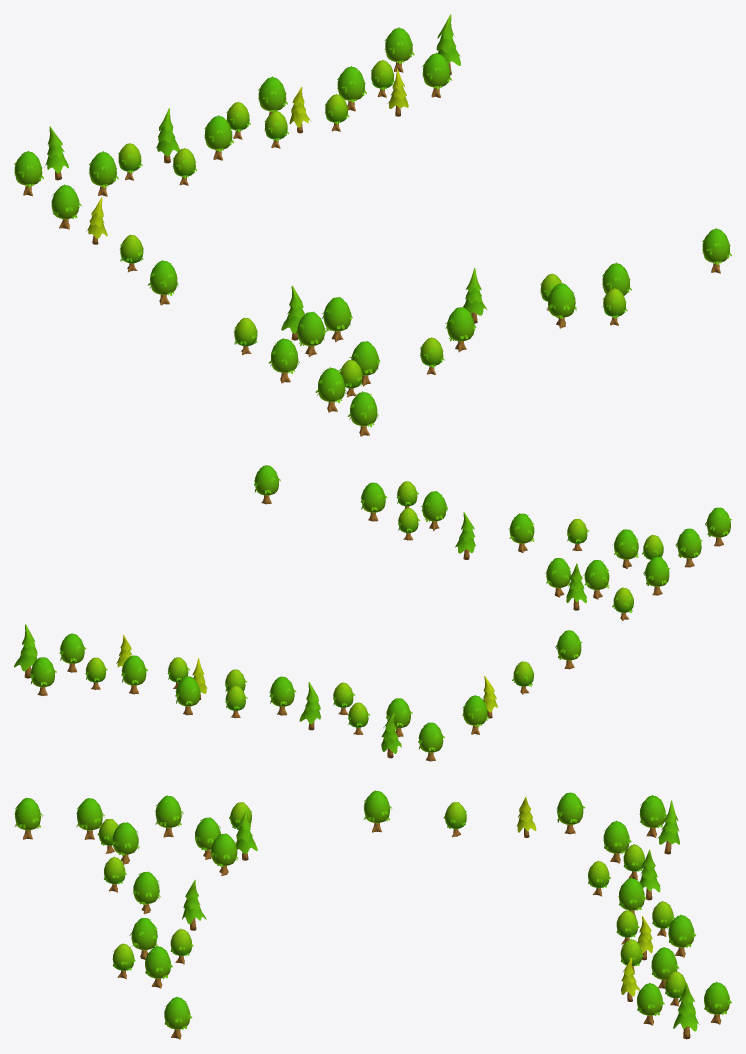
File: Tree_Group.fbx
The picture shows the model from 3 angles, top to bottom: view 1: azimuth 30°, elevation 25°; view 2: azimuth 150°, elevation 25°; view 3: azimuth 270°, elevation 25°; orthographic projection. The views are drawn at different scales.
Parts seen in each view (by area): view 1: Tree_2.012, Tree_2.010, Tree_2.011, Tree_2.009, Tree_2.003, Tree_2.013, Tree_2.002, Tree_2.004, Tree_2.008, Tree_2.014, Tree_2.021, Tree_2.007 (+8 smaller); view 2: Tree_2.013, Tree_2.002, Tree_2.011, Tree_2.004, Tree_2.001, Tree_2.017, Tree_2.021, Tree_2.006, Tree_2.009, Tree_2.010, Tree_2.019, Tree_2.012 (+17 smaller); view 3: Tree_2.011, Tree_2.018, Tree_2.012, Tree_2.007, Tree_2.010, Tree_2.014, Tree_2.021, Tree_2.006, Tree_2.009, Tree_2.020, Tree_2.001, Tree_2.008 (+25 smaller).
Boxes of the visible parts, left/top/right/bottom form: Tree_2.012: left=347, top=391, right=378, bottom=436; Tree_2.010: left=148, top=260, right=178, bottom=305; Tree_2.011: left=269, top=338, right=299, bottom=383; Tree_2.009: left=51, top=184, right=81, bottom=229; Tree_2.003: left=322, top=297, right=352, bottom=342; Tree_2.013: left=315, top=367, right=346, bottom=412; Tree_2.002: left=295, top=311, right=326, bottom=357; Tree_2.004: left=445, top=307, right=476, bottom=352; Tree_2.008: left=14, top=150, right=43, bottom=196; Tree_2.014: left=88, top=151, right=118, bottom=196; Tree_2.021: left=422, top=52, right=452, bottom=97; Tree_2.007: left=702, top=228, right=731, bottom=273; Tree_2.013: left=675, top=528, right=702, bottom=567; Tree_2.002: left=583, top=560, right=609, bottom=599; Tree_2.011: left=643, top=556, right=669, bottom=595; Tree_2.004: left=508, top=513, right=534, bottom=552; Tree_2.001: left=612, top=529, right=638, bottom=568; Tree_2.017: left=269, top=676, right=296, bottom=715; Tree_2.021: left=59, top=633, right=86, bottom=672; Tree_2.006: left=360, top=482, right=387, bottom=521; Tree_2.009: left=462, top=695, right=489, bottom=734; Tree_2.010: left=555, top=630, right=582, bottom=669; Tree_2.019: left=121, top=655, right=147, bottom=694; Tree_2.012: left=705, top=507, right=731, bottom=546; Tree_2.011: left=155, top=795, right=183, bottom=837; Tree_2.018: left=668, top=914, right=696, bottom=957; Tree_2.012: left=14, top=797, right=43, bottom=839; Tree_2.007: left=164, top=996, right=192, bottom=1039; Tree_2.010: left=363, top=790, right=392, bottom=832; Tree_2.014: left=603, top=820, right=631, bottom=863; Tree_2.021: left=637, top=982, right=664, bottom=1025; Tree_2.006: left=145, top=945, right=172, bottom=988; Tree_2.009: left=557, top=792, right=585, bottom=834; Tree_2.020: left=704, top=981, right=731, bottom=1024; Tree_2.001: left=112, top=822, right=139, bottom=864; Tree_2.008: left=639, top=795, right=666, bottom=837.
Size of the model in its own units: 7440 by 5358 by 654.
